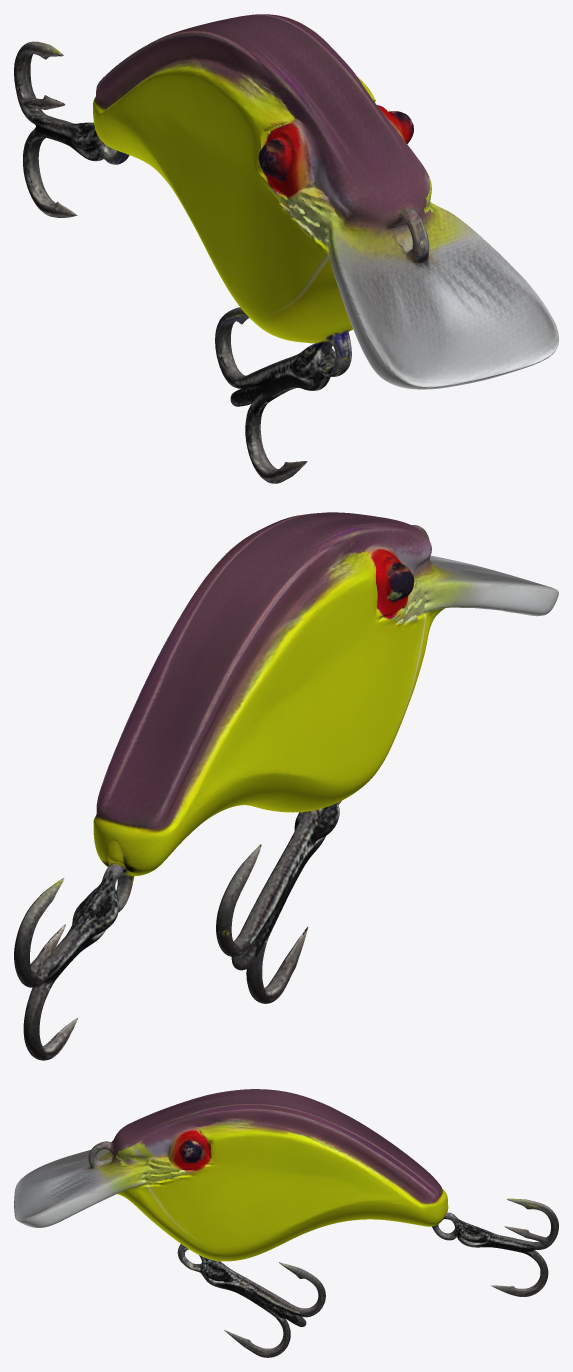
File: razor-bait-optimized.glb
3 renders of one model, top to bottom at view 1: azimuth 30°, elevation 25°; view 2: azimuth 150°, elevation 25°; view 3: azimuth 270°, elevation 25°, orthographic. The views are drawn at different scales.
Parts seen in each view (by area): view 1: model; view 2: model; view 3: model.
Part boxes in pixels (left/top/right/bottom): model: left=14, top=14, right=558, bottom=483; model: left=14, top=512, right=558, bottom=1060; model: left=14, top=1089, right=558, bottom=1357.
Size of the model in its own units: 0.4057 by 1 by 1.9.
Materials: 1 (1 with a texture image).
